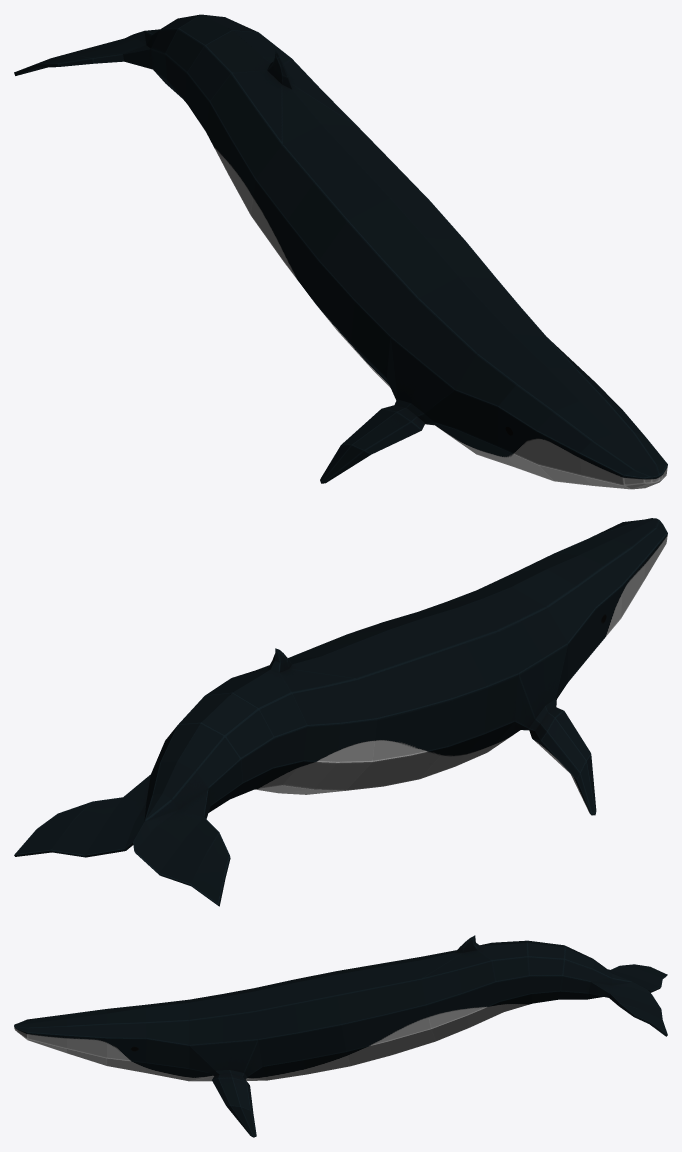
The model's file is FinBackWhale.gltf.
3 renders of one model, top to bottom at view 1: azimuth 30°, elevation 25°; view 2: azimuth 150°, elevation 25°; view 3: azimuth 270°, elevation 25°, orthographic. The views are drawn at different scales.
Visible parts, largest first — view 1: node-0; view 2: node-0; view 3: node-0.
Boxes of the visible parts, <box> form: node-0: <box>14,14,667,489</box>; node-0: <box>14,518,667,906</box>; node-0: <box>14,935,667,1137</box>.
Size of the model in its own units: 9.45 by 8.8 by 32.22.
Materials: 1 (1 with a texture image).
